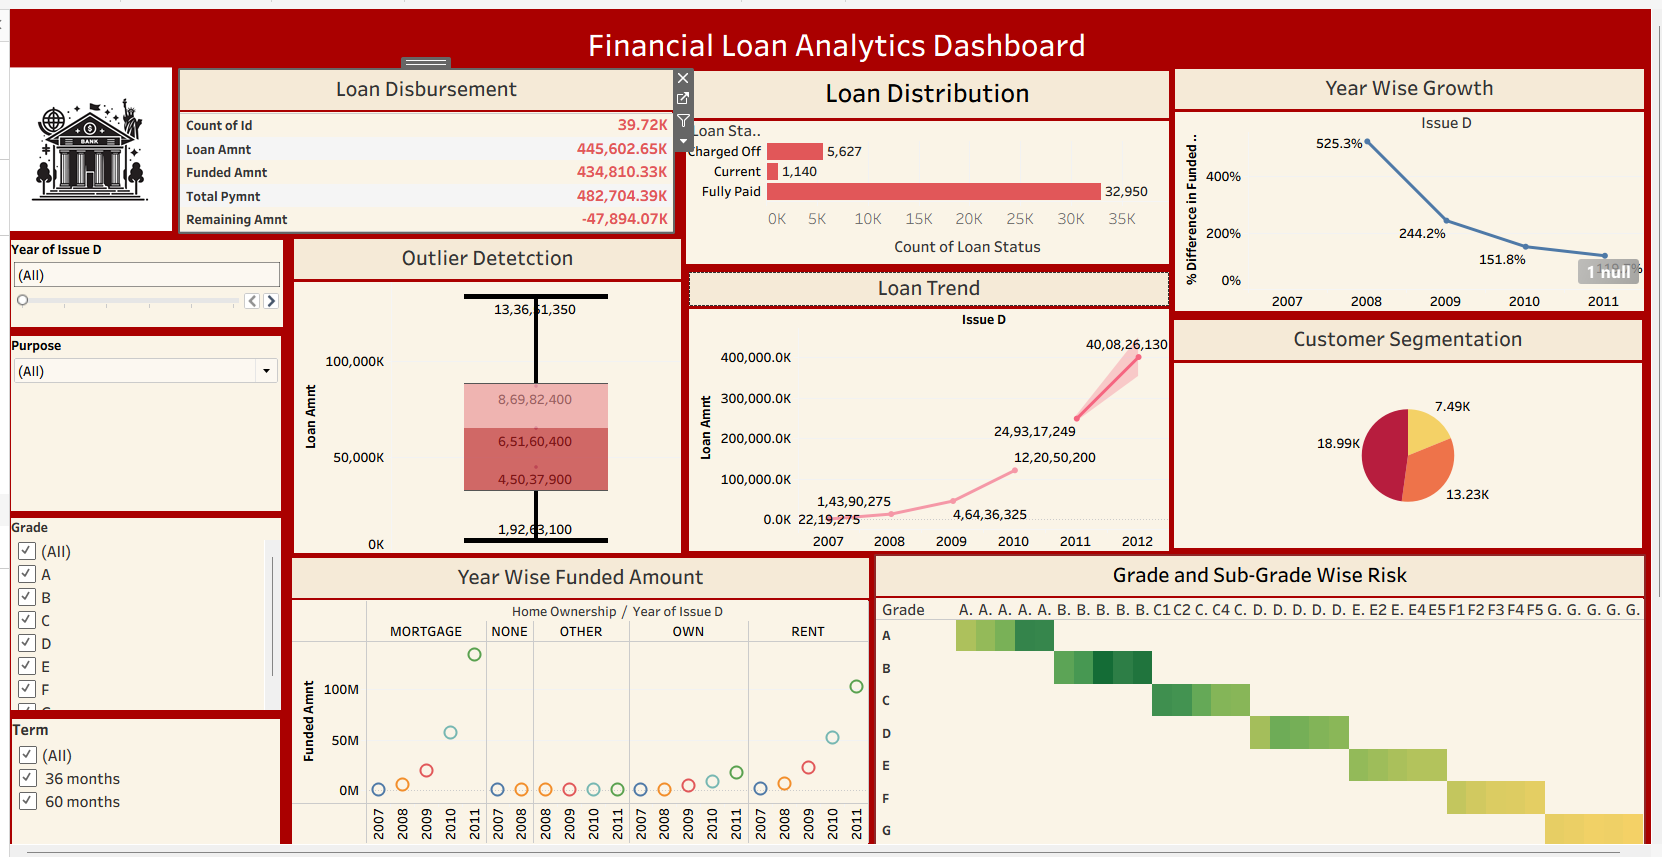

The dashboard page shown, as its layout file describes it:
{"tool":"tableau","page":{"name":"Financial Loan Analytics Dashboard","canvas":[1654,1169],"ordinal":0},"visuals":[{"type":"title","box":[8,8,1638,54]},{"type":"worksheet","title":"Year wise Growth","mark":"Automatic","rows":["funded_amnt"],"cols":["issue_d"],"box":[1165,60,469,242]},{"type":"worksheet","title":"Overview of Payments","mark":"Automatic","box":[170,61,493,162]},{"type":"worksheet","title":"Loan distribution","mark":"Bar","rows":["loan_status"],"cols":["loan_status"],"box":[676,62,483,193]},{"type":"worksheet","title":"Outlier detetction ","mark":"Circle","rows":["loan_amnt"],"box":[284,230,387,314]},{"type":"filter","title":"loan trend","param":"[federated.0b3dul90l7sph21e4rmjg0goafun].[yr:issue_d:ok]","box":[1,231,272,87]},{"type":"worksheet","title":"loan trend","mark":"Automatic","rows":["loan_amnt"],"cols":["issue_d"],"box":[679,263,480,279]},{"type":"worksheet","title":"customer segmentation","mark":"Pie","box":[1164,311,468,228]},{"type":"filter","title":"Year wise Growth","param":"[federated.0b3dul90l7sph21e4rmjg0goafun].[none:purpose:nk]","box":[1,327,270,175]},{"type":"filter","title":"Grade and sub-grade wise risk","param":"[federated.0b3dul90l7sph21e4rmjg0goafun].[none:grade:nk]","box":[1,509,270,192]},{"type":"worksheet","title":"Grade and sub-grade wise risk","mark":"Square","rows":["grade"],"cols":["sub_grade"],"box":[866,547,768,291]},{"type":"worksheet","title":"year wise funded amt","mark":"Shape","rows":["funded_amnt"],"cols":["home_ownership","issue_d"],"box":[282,549,577,286]},{"type":"filter","title":"customer segmentation","param":"[federated.0b3dul90l7sph21e4rmjg0goafun].[none:term:nk]","box":[2,710,268,130]}]}

Visuals, with their boxes on the page's 1654x1169 design canvas (x1, y1, x2, y2). These are canvas units, not pixel positions in the 1662x857 screenshot, which may show the page scaled, cropped or inside an application window:
title: left=8, top=8, right=1646, bottom=62
"Year wise Growth" worksheet: left=1165, top=60, right=1634, bottom=302
"Overview of Payments" worksheet: left=170, top=61, right=663, bottom=223
"Loan distribution" worksheet (Bar marks): left=676, top=62, right=1159, bottom=255
"Outlier detetction " worksheet (Circle marks): left=284, top=230, right=671, bottom=544
"loan trend" filter: left=1, top=231, right=273, bottom=318
"loan trend" worksheet: left=679, top=263, right=1159, bottom=542
"customer segmentation" worksheet (Pie marks): left=1164, top=311, right=1632, bottom=539
"Year wise Growth" filter: left=1, top=327, right=271, bottom=502
"Grade and sub-grade wise risk" filter: left=1, top=509, right=271, bottom=701
"Grade and sub-grade wise risk" worksheet (Square marks): left=866, top=547, right=1634, bottom=838
"year wise funded amt" worksheet (Shape marks): left=282, top=549, right=859, bottom=835
"customer segmentation" filter: left=2, top=710, right=270, bottom=840
